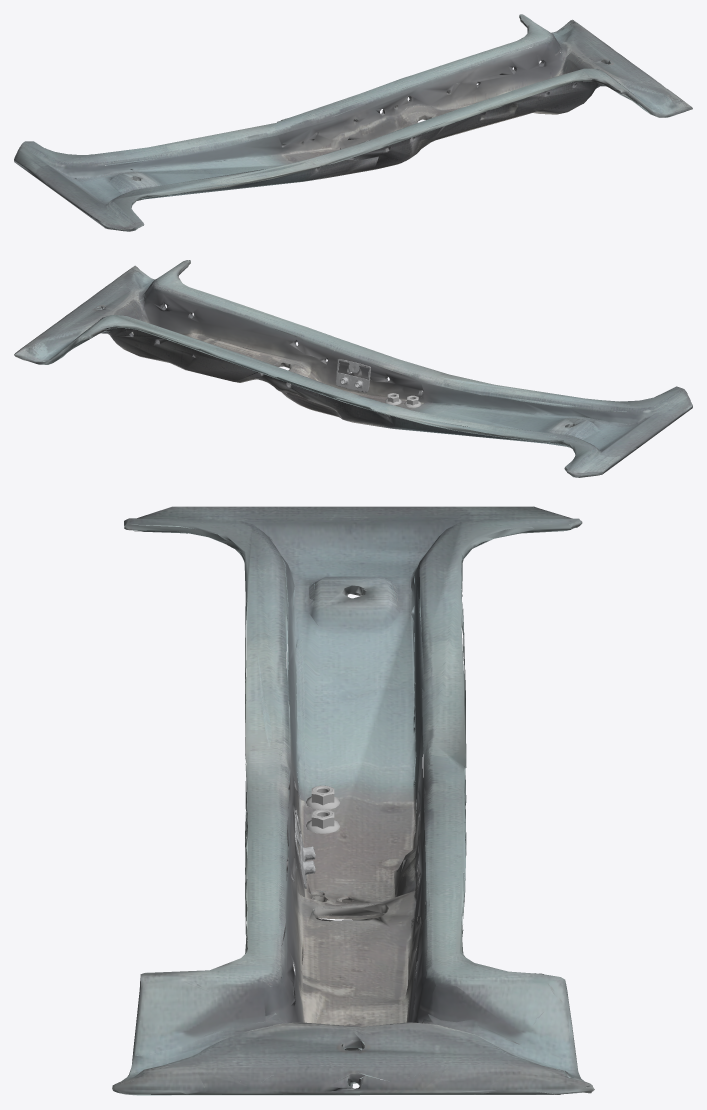
3 renders of one model, top to bottom at view 1: azimuth 30°, elevation 25°; view 2: azimuth 150°, elevation 25°; view 3: azimuth 270°, elevation 25°, orthographic. The views are drawn at different scales.
Visible parts, largest first — view 1: PecaPrincipal; view 2: PecaPrincipal, Chapa; view 3: PecaPrincipal.
Part boxes in pixels (<box>): PecaPrincipal: <box>14,14,692,231</box>; PecaPrincipal: <box>14,260,692,477</box>; Chapa: <box>335,359,370,392</box>; PecaPrincipal: <box>112,506,594,1095</box>.
Bounding box in the file's own units: 1.9 × 0.1891 × 0.691.
Materials: 4 (2 with a texture image).
